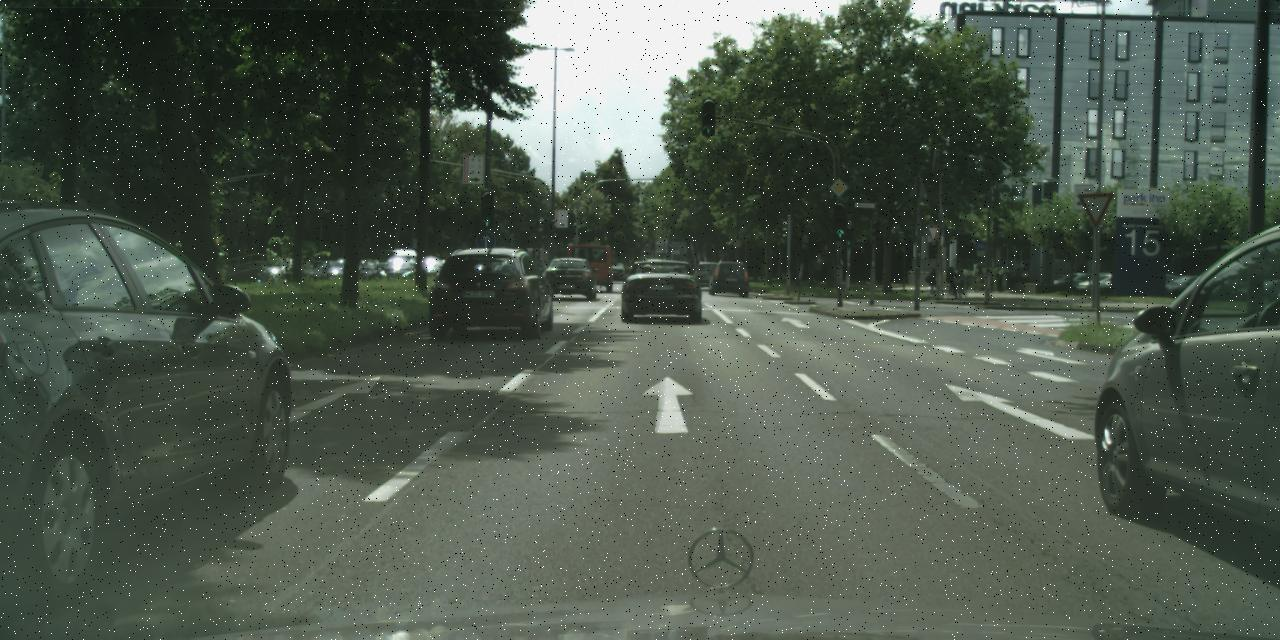ped: (947, 266, 959, 294), (929, 266, 940, 294)
